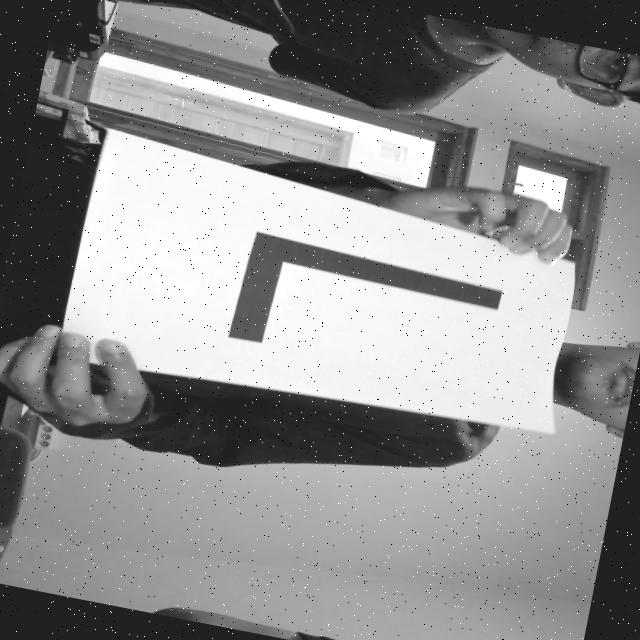l: (207, 202, 528, 396)
